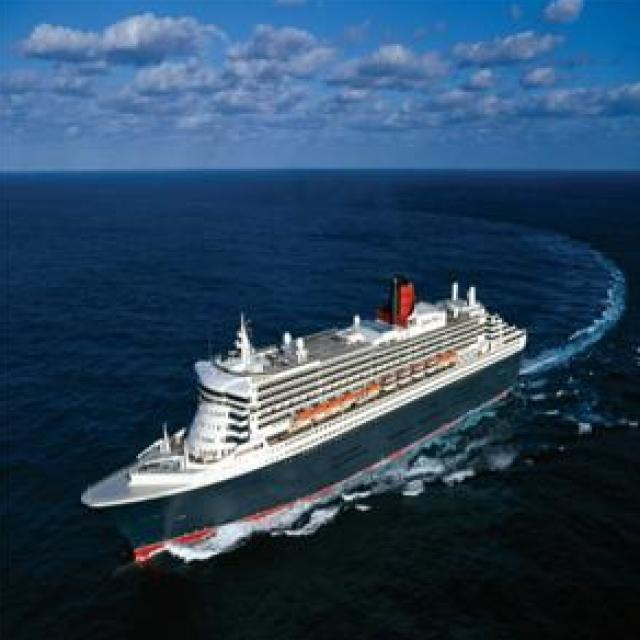passenger ship: (84, 272, 531, 552)
